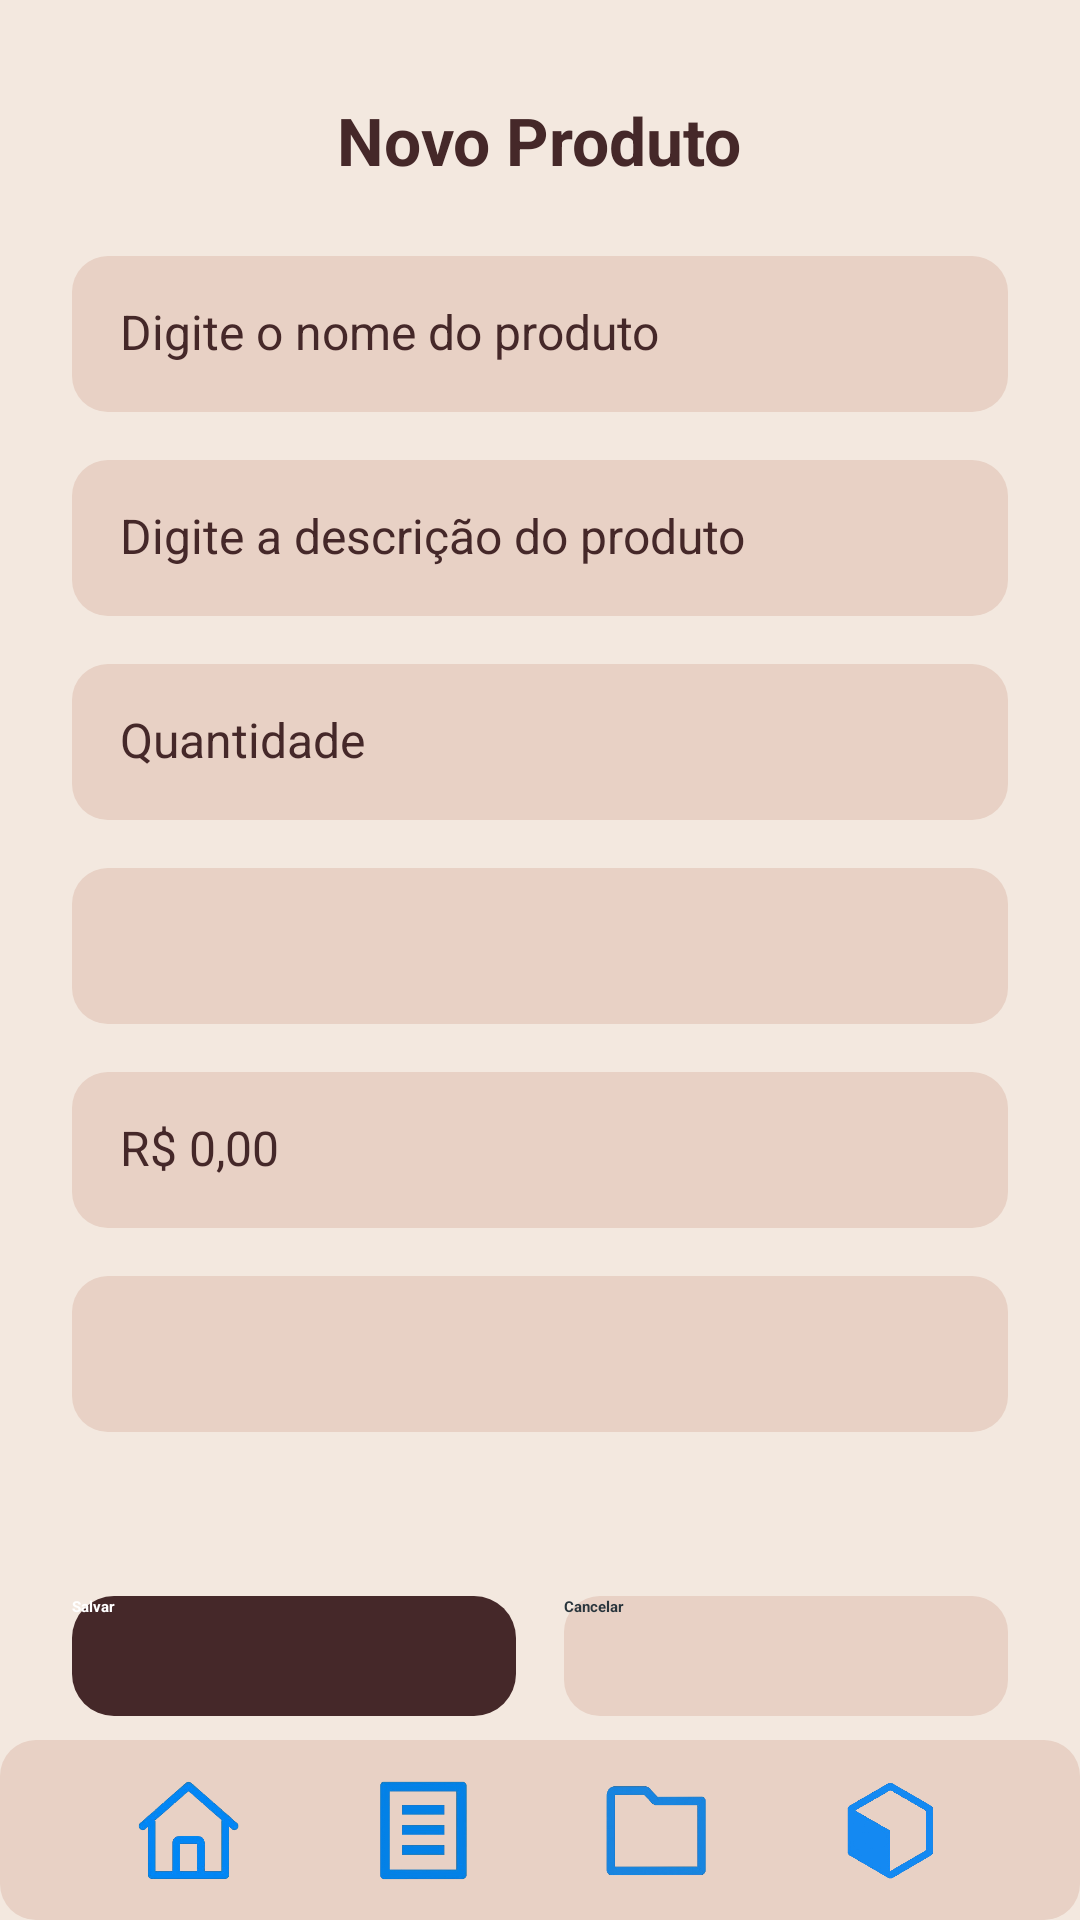

Named icons in this screenshot (1080px×1920px) and their centers, [x,y]:
caixa: [890,1831]
home: [189,1830]
lista: [423,1830]
pasta: [656,1830]
